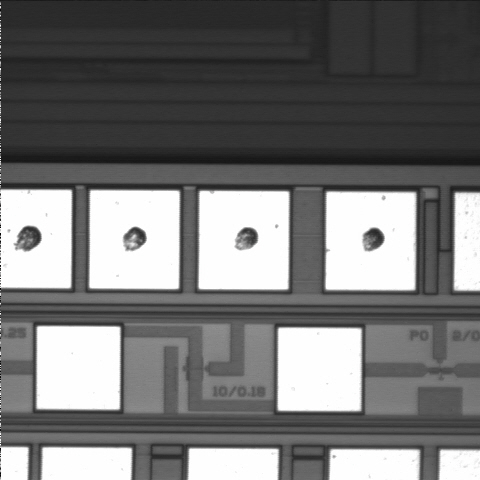pad: (89, 190, 179, 289), (199, 191, 289, 289), (326, 192, 416, 290), (37, 326, 120, 409), (278, 328, 361, 411)
